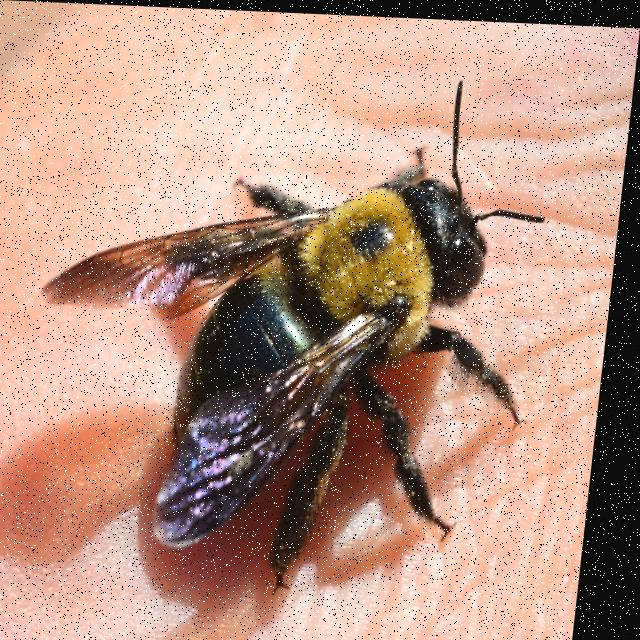Xylocopa: (58, 71, 586, 631)
